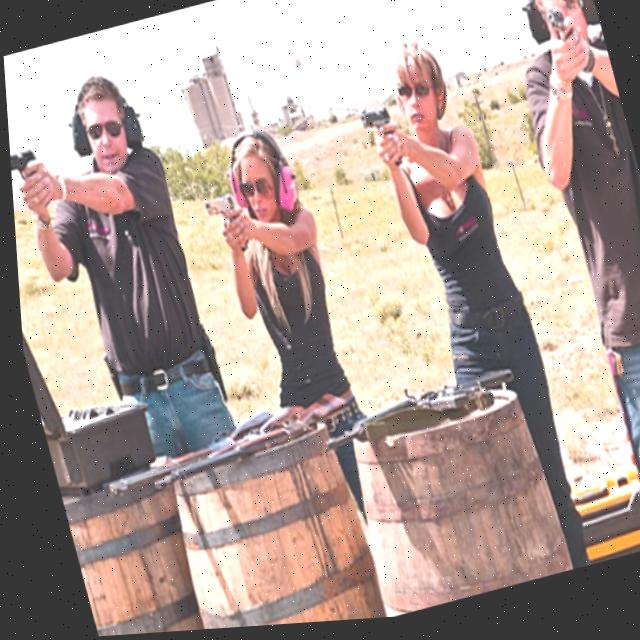firearm: (134, 390, 353, 495), (91, 405, 311, 503), (306, 365, 517, 458), (136, 410, 276, 472)
pistol: (199, 191, 249, 263), (356, 106, 403, 180), (8, 144, 40, 185), (543, 11, 571, 53)
